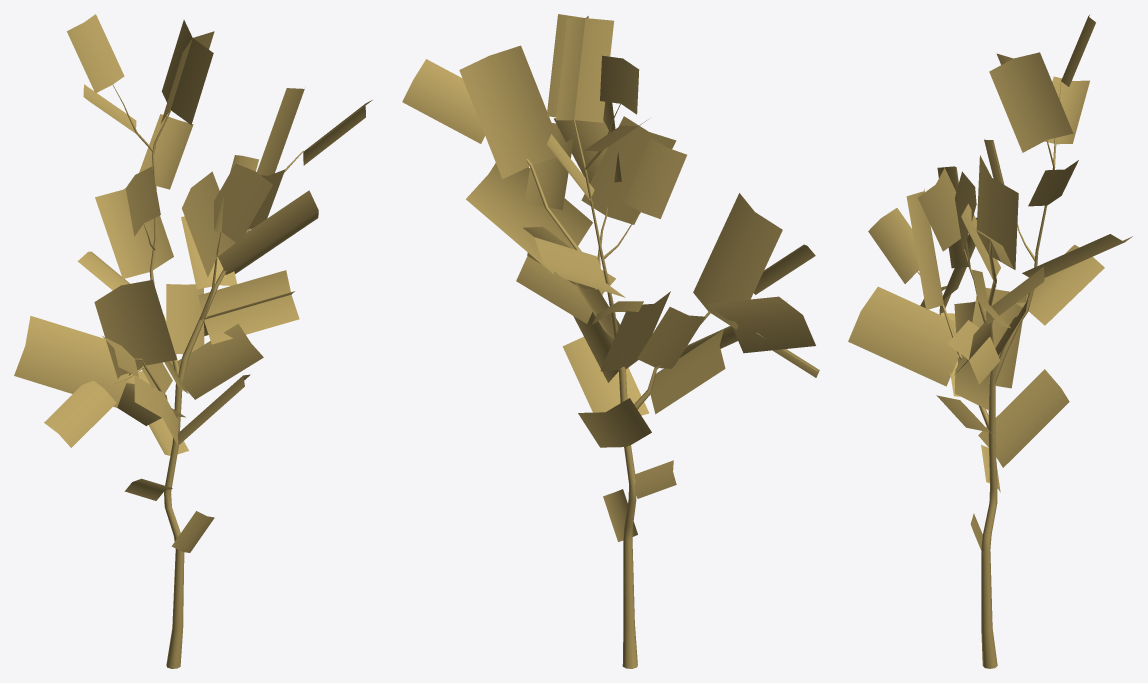
Rendered from cmc_quakingaspen_LOD_0.fbx.
The picture shows the model from 3 angles, left to right: view 1: azimuth 30°, elevation 25°; view 2: azimuth 150°, elevation 25°; view 3: azimuth 270°, elevation 25°; orthographic projection. The views are drawn at different scales.
Visible parts, largest first — view 1: leaves_planes_rev, leaves_planes_fwd, quaking_aspen_LOD_0; view 2: leaves_planes_rev, leaves_planes_fwd, quaking_aspen_LOD_0; view 3: leaves_planes_rev, leaves_planes_fwd, quaking_aspen_LOD_0.
Part boxes in pixels (<box>): leaves_planes_rev: <box>14,19,365,552</box>; leaves_planes_fwd: <box>15,14,372,543</box>; quaking_aspen_LOD_0: <box>104,84,303,668</box>; leaves_planes_rev: <box>402,14,819,533</box>; leaves_planes_fwd: <box>408,16,819,541</box>; quaking_aspen_LOD_0: <box>526,103,710,668</box>; leaves_planes_rev: <box>868,16,1127,545</box>; leaves_planes_fwd: <box>848,15,1132,555</box>; quaking_aspen_LOD_0: <box>917,81,1061,668</box>.
Bounding box in the file's own units: 6.77 × 10.8 × 4.44.
